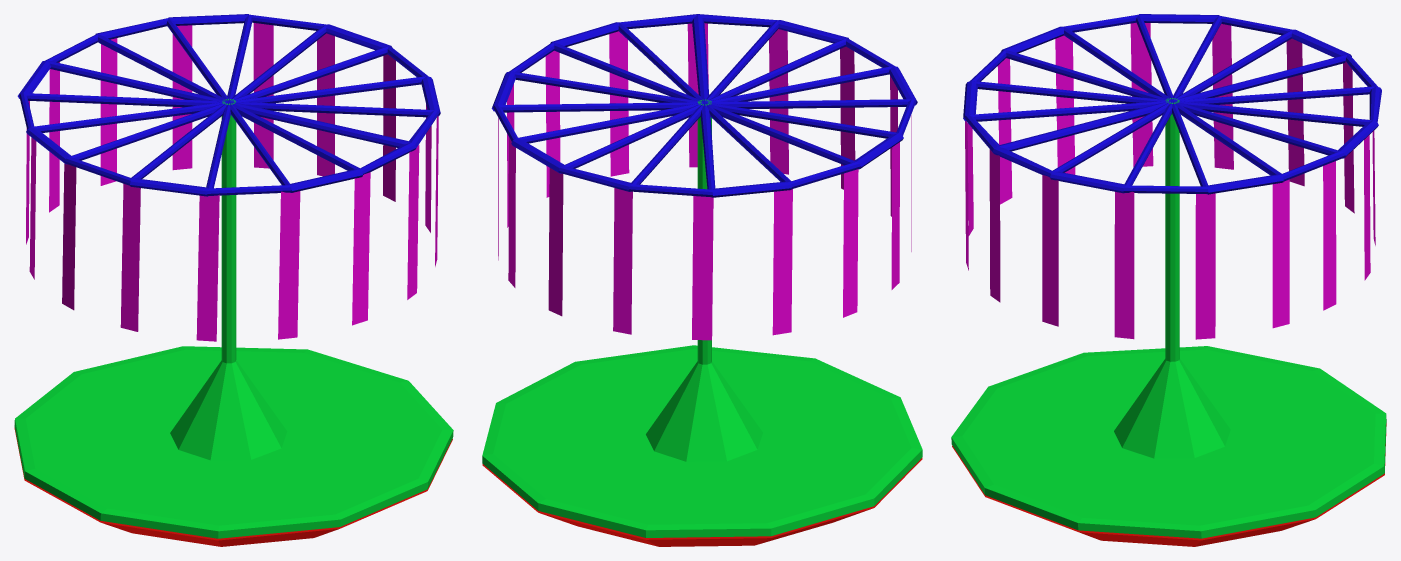
File: water_b_2.fbx
The picture shows the model from 3 angles, left to right: view 1: azimuth 30°, elevation 25°; view 2: azimuth 150°, elevation 25°; view 3: azimuth 270°, elevation 25°; orthographic projection.
Parts seen in each view (by area): view 1: waterbench; view 2: waterbench; view 3: waterbench.
Part boxes in pixels (x1,y1,x2,y2): waterbench: [14, 14, 453, 546]; waterbench: [482, 14, 922, 546]; waterbench: [951, 14, 1386, 546].
Size of the model in its own units: 333 by 314 by 331.
